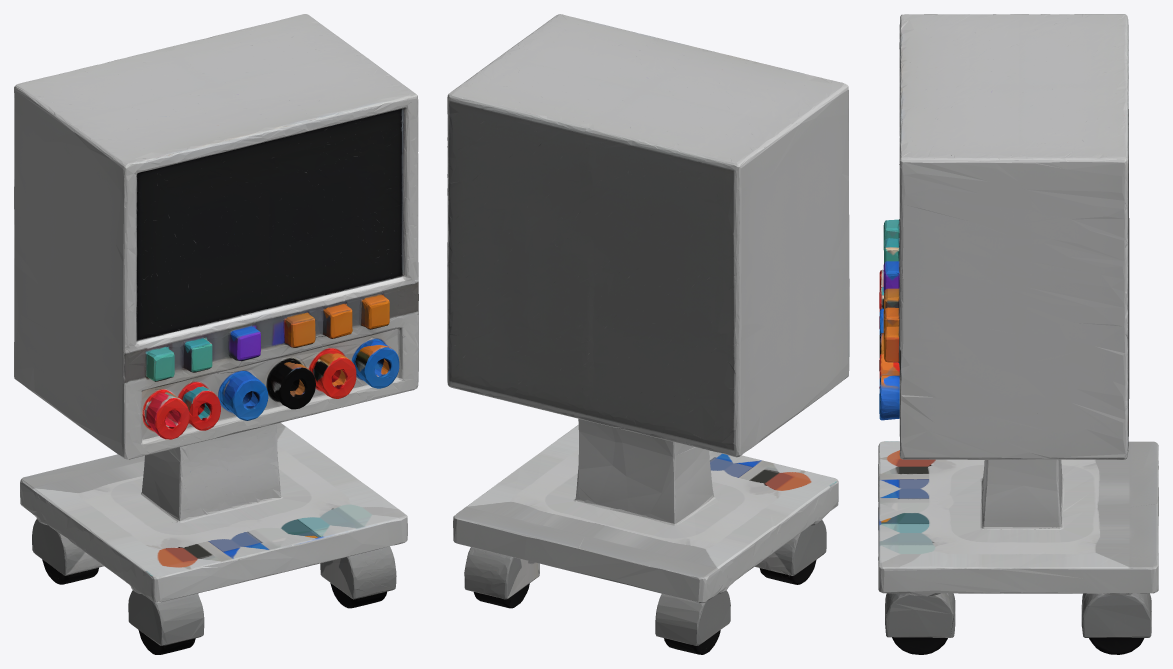
The model's file is iter1-share40k.glb.
The picture shows the model from 3 angles, left to right: view 1: azimuth 30°, elevation 25°; view 2: azimuth 150°, elevation 25°; view 3: azimuth 270°, elevation 25°; orthographic projection. The views are drawn at different scales.
Visible parts, largest first — view 1: world; view 2: world; view 3: world.
Boxes of the visible parts, bbox=[...] form: world: bbox=[14, 14, 418, 654]; world: bbox=[447, 14, 849, 654]; world: bbox=[878, 14, 1158, 654].
Bounding box in the file's own units: 1.22 × 1.99 × 0.9876.
Materials: 1 (1 with a texture image).
